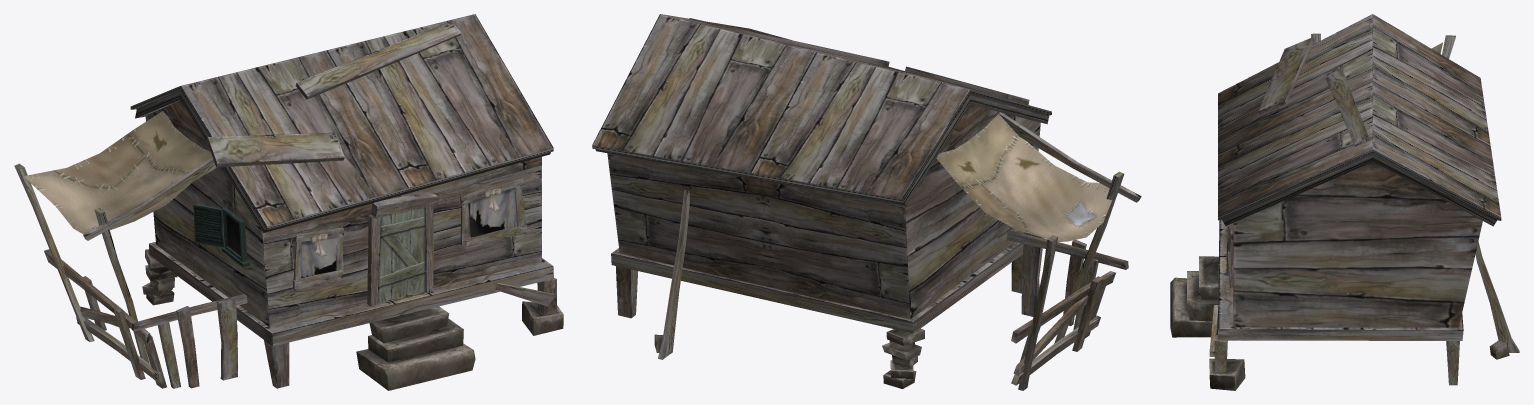
The model's file is shanty_npc_house_combo_H.fbx.
3 views of the same model, side by side, from view 1: azimuth 30°, elevation 25°; view 2: azimuth 150°, elevation 25°; view 3: azimuth 270°, elevation 25° (orthographic). The views are drawn at different scales.
Visible parts, largest first — view 1: house_geo, canvas1, platform, door_right, pasted__wood22, stair1, pasted__wood20, canvas, stair2, stair3, curtain1, woodsupport (+21 smaller); view 2: house_geo, canvas1, platform, canvas, wood_support, woodsupport2, woodsupport, fence_post6, woodsupport1, fence_horiz_short1, pasted__wood20, fence_horiz1 (+7 smaller); view 3: house_geo, platform, pasted__wood22, stair1, pasted__wood20, wood_support, stair2, atone, stair3, support1, post.
Part boxes in pixels (bbox=[...]): house_geo: bbox=[130, 14, 553, 327]; canvas1: bbox=[23, 111, 212, 234]; platform: bbox=[149, 242, 553, 346]; door_right: bbox=[377, 207, 425, 302]; pasted__wood22: bbox=[206, 132, 344, 167]; stair1: bbox=[356, 343, 475, 390]; pasted__wood20: bbox=[295, 21, 461, 99]; canvas: bbox=[28, 112, 211, 233]; stair2: bbox=[368, 318, 463, 362]; stair3: bbox=[369, 306, 449, 343]; curtain1: bbox=[468, 187, 516, 237]; woodsupport: bbox=[14, 163, 94, 341]; house_geo: bbox=[592, 14, 1051, 318]; canvas1: bbox=[936, 112, 1112, 242]; platform: bbox=[611, 242, 1023, 333]; canvas: bbox=[937, 118, 1108, 241]; wood_support: bbox=[658, 189, 689, 359]; woodsupport2: bbox=[999, 112, 1141, 202]; woodsupport: bbox=[1018, 235, 1058, 390]; fence_post6: bbox=[1021, 232, 1043, 316]; woodsupport1: bbox=[1054, 171, 1124, 343]; fence_horiz_short1: bbox=[1007, 230, 1128, 269]; pasted__wood20: bbox=[689, 18, 889, 66]; fence_horiz1: bbox=[1011, 271, 1115, 343]; house_geo: bbox=[1218, 14, 1501, 327]; platform: bbox=[1217, 219, 1463, 340]; pasted__wood22: bbox=[1258, 37, 1314, 114]; stair1: bbox=[1170, 277, 1217, 337]; pasted__wood20: bbox=[1325, 68, 1369, 146]; wood_support: bbox=[1475, 241, 1519, 352]; stair2: bbox=[1187, 271, 1218, 321]; atone: bbox=[1209, 358, 1245, 390]; stair3: bbox=[1199, 256, 1218, 299]; support1: bbox=[1446, 341, 1459, 385]; post: bbox=[1214, 335, 1227, 372].
Size of the model in its own units: 3712 by 2082 by 2764.
4 materials, 4 textured.
